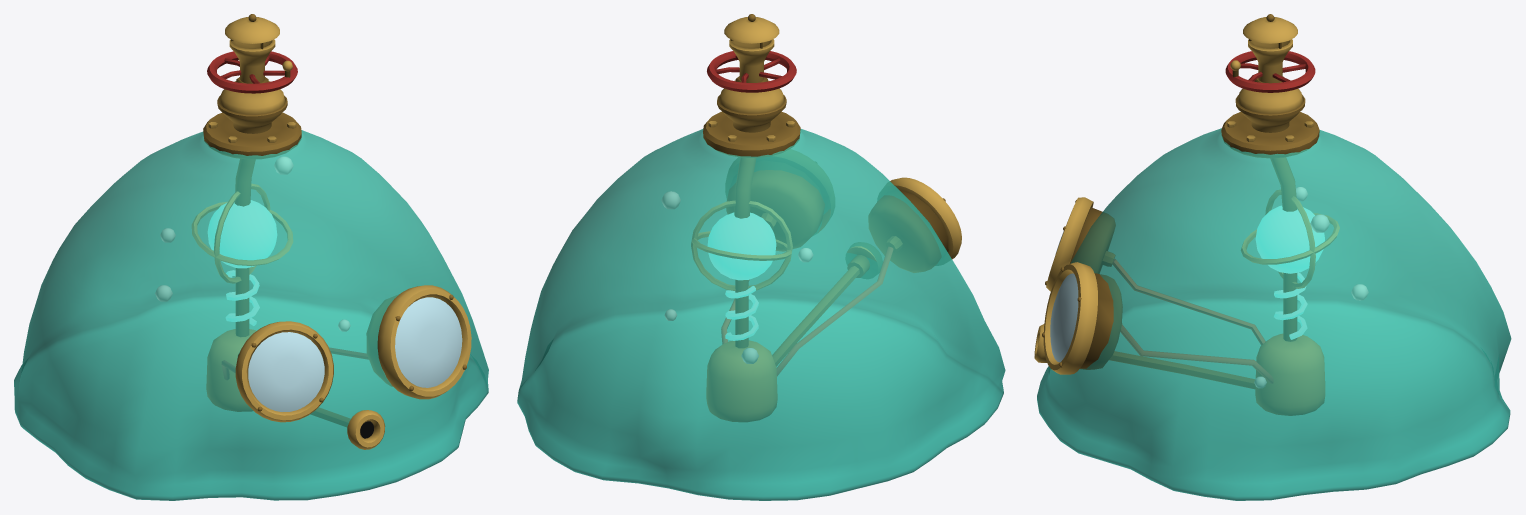
Rendered from slime.glb.
The picture shows the model from 3 angles, left to right: view 1: azimuth 30°, elevation 25°; view 2: azimuth 150°, elevation 25°; view 3: azimuth 270°, elevation 25°; orthographic projection.
Parts seen in each view (by area): view 1: body, valve, eye_L, eye_R; view 2: body, valve, eye_R, eye_L; view 3: body, valve, eye_L, eye_R.
Part boxes in pixels (x1,y1,x2,y2): body: (14, 130, 488, 500); valve: (203, 14, 301, 159); eye_L: (366, 285, 471, 399); eye_R: (235, 321, 333, 422); body: (517, 129, 1005, 500); valve: (703, 14, 800, 157); eye_R: (868, 177, 961, 272); eye_L: (726, 170, 830, 251); body: (1034, 128, 1511, 500); valve: (1221, 14, 1319, 157); eye_L: (1042, 262, 1122, 374); eye_R: (1045, 197, 1115, 291).
Bounding box in the file's own units: 0.9453 × 0.868 × 0.9598.
